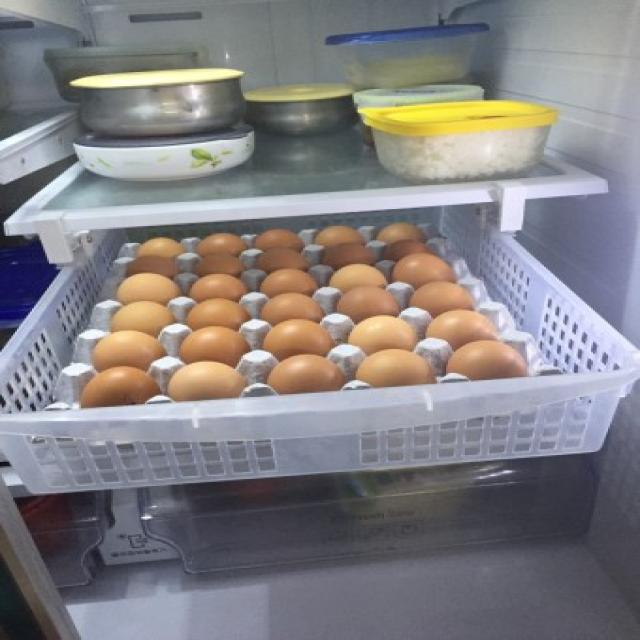eggs: (171, 324, 256, 368), (78, 365, 162, 409), (266, 352, 348, 397), (86, 331, 172, 372), (168, 358, 244, 403), (440, 338, 528, 376), (350, 348, 436, 386), (259, 320, 337, 356), (422, 310, 504, 344), (346, 316, 419, 352), (387, 250, 462, 283), (257, 291, 325, 327), (102, 302, 176, 335), (112, 271, 182, 305), (331, 287, 406, 317), (409, 282, 480, 312), (184, 300, 254, 330), (188, 276, 255, 302), (259, 268, 316, 297), (328, 265, 385, 290)
